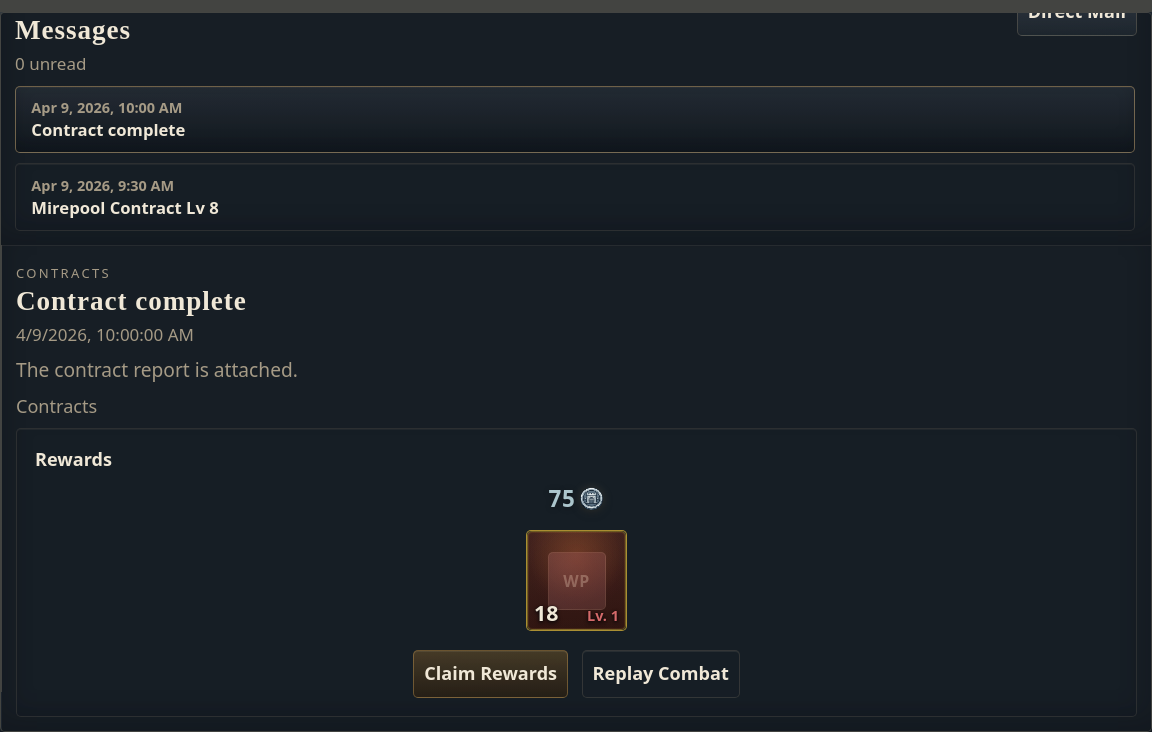
Test: messages panel › loads inbox detail, claims rewards, and advances to the next message needing attention
This screenshot has width=1152, height=732.
(page scrolled)
Expected: the text "Contract complete" is shown, x1=31 y1=120 x2=185 y2=140
Expected: the text "The contract report is attached." is shown, x1=16 y1=357 x2=298 y2=383
Click the button "Claim Rewards": [491, 674] box x1=413 y1=650 x2=568 y2=698
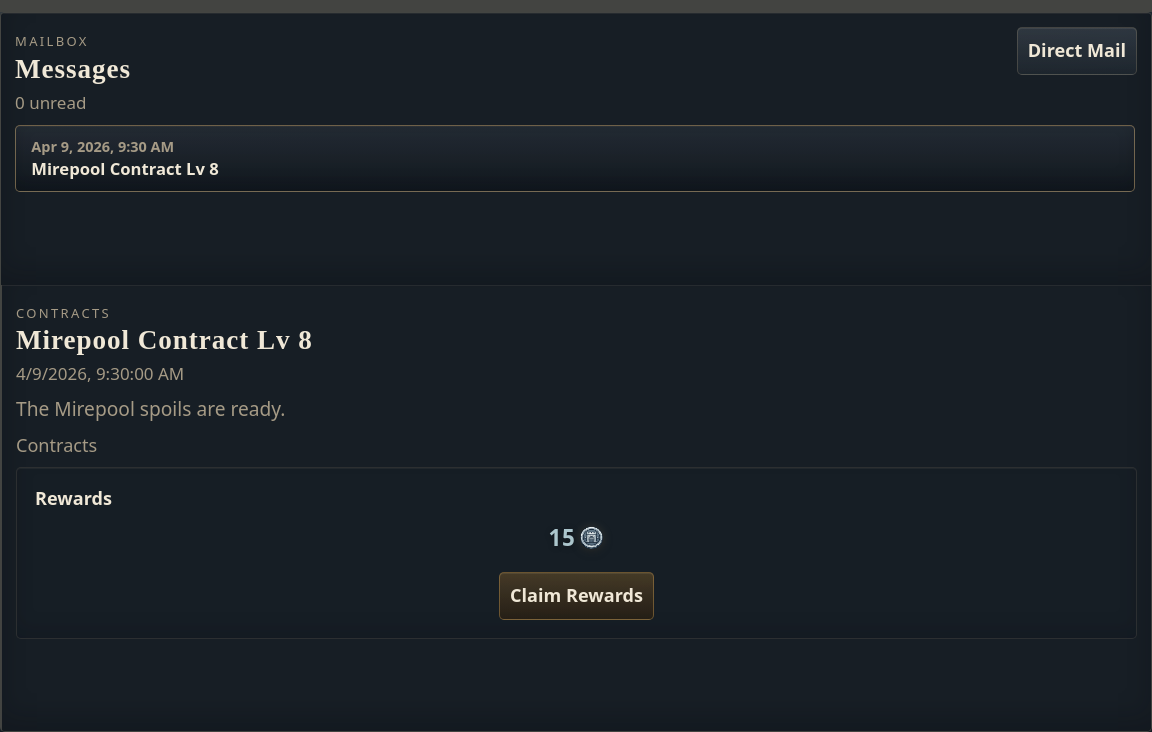
Now the element with test id "message-reward-item-reward_item_1" is gone
Now the button "Contract complete" is gone
Now the text "The Mirepool spoils are ready." is shown, box x1=16 y1=396 x2=286 y2=422
